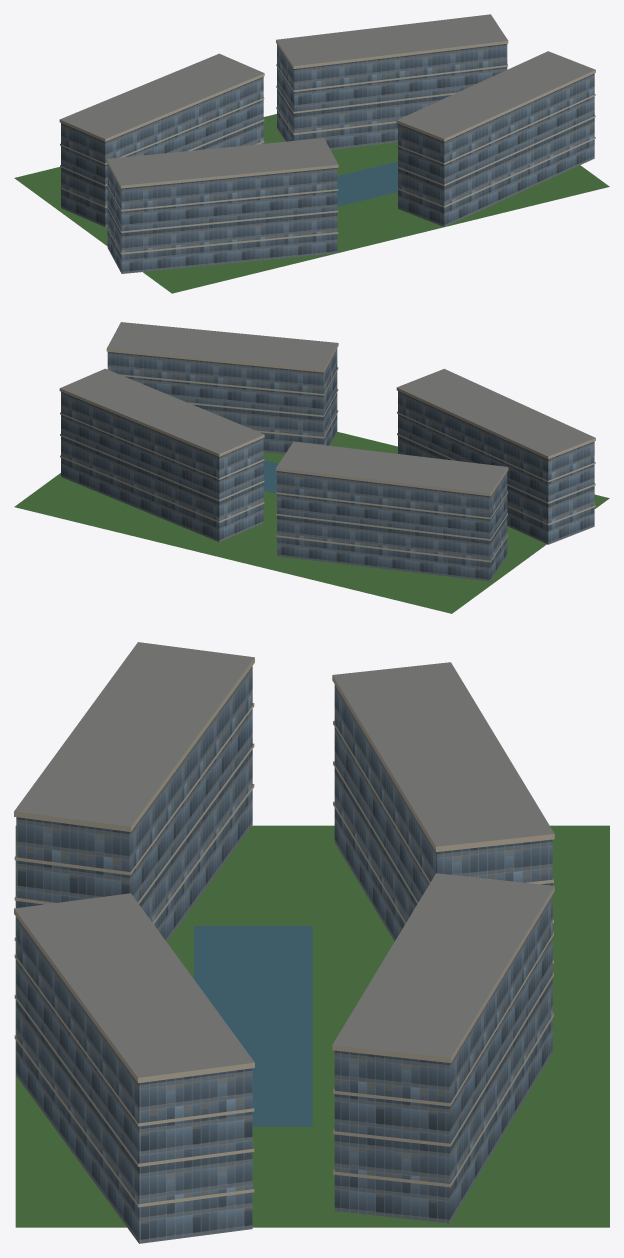
File: gates_foundation.glb
3 renders of one model, top to bottom at view 1: azimuth 30°, elevation 25°; view 2: azimuth 150°, elevation 25°; view 3: azimuth 270°, elevation 25°, orthographic. The views are drawn at different scales.
Parts seen in each view (by area): view 1: gates_foundation; view 2: gates_foundation; view 3: gates_foundation.
Boxes of the visible parts, x1,y1,x2,y2 form: gates_foundation: [14, 14, 609, 293]; gates_foundation: [14, 322, 609, 613]; gates_foundation: [14, 642, 609, 1243].
Bounding box in the file's own units: 174 × 30.99 × 100.
Materials: 2 (2 with a texture image).
